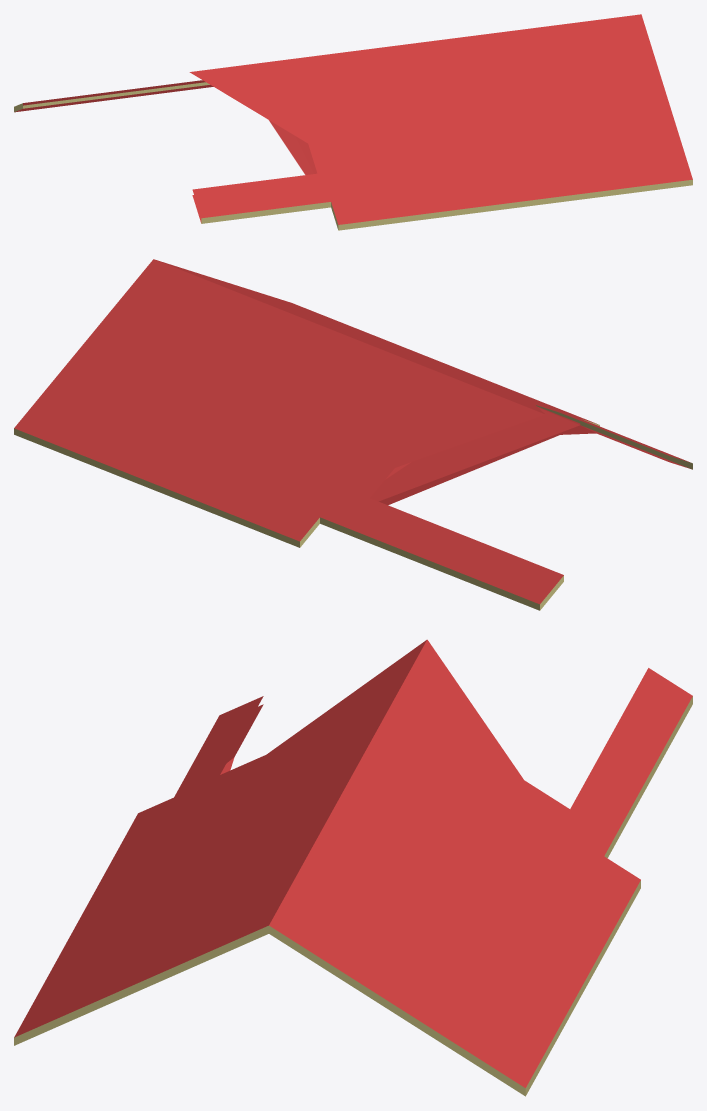
The picture shows the model from 3 angles, top to bottom: view 1: azimuth 30°, elevation 25°; view 2: azimuth 150°, elevation 25°; view 3: azimuth 270°, elevation 25°; orthographic projection. The views are drawn at different scales.
Bounding box in the file's own units: 9.77 × 7.43 × 1.76.
